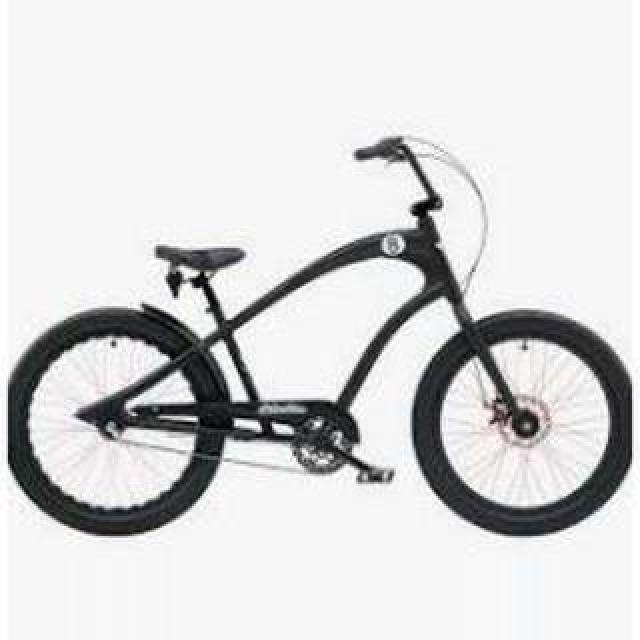Person: (8, 134, 634, 540)
